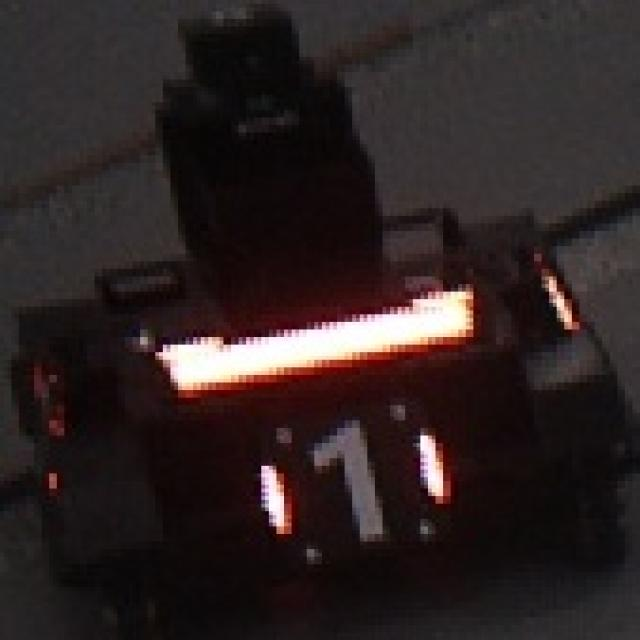R1: (258, 421, 450, 542)
